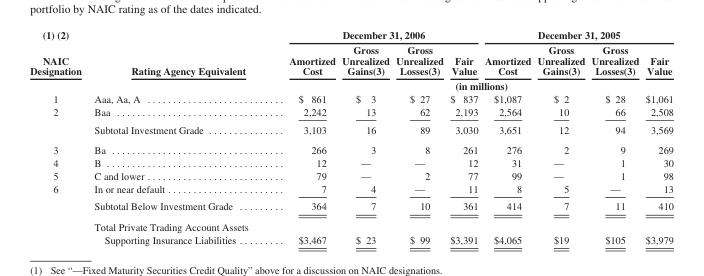table: (29, 28, 672, 244)
table column: (87, 28, 268, 244), (268, 28, 338, 244), (29, 28, 87, 244), (338, 28, 392, 244), (392, 28, 446, 244), (533, 28, 587, 244), (587, 28, 641, 244), (480, 28, 533, 244), (446, 28, 480, 244), (641, 28, 672, 244)
table column header: (29, 28, 672, 92)
table row: (29, 42, 672, 77), (29, 216, 672, 244), (29, 120, 672, 139), (29, 197, 672, 216), (29, 139, 672, 156), (29, 104, 672, 120), (29, 181, 672, 197), (29, 77, 672, 92), (29, 28, 672, 42), (29, 168, 672, 181), (29, 92, 672, 104), (29, 156, 672, 168)
table spanning cell: (87, 28, 268, 92), (268, 77, 672, 92), (29, 28, 87, 92), (29, 181, 87, 244), (268, 28, 480, 42), (480, 28, 672, 42), (29, 104, 87, 139)
